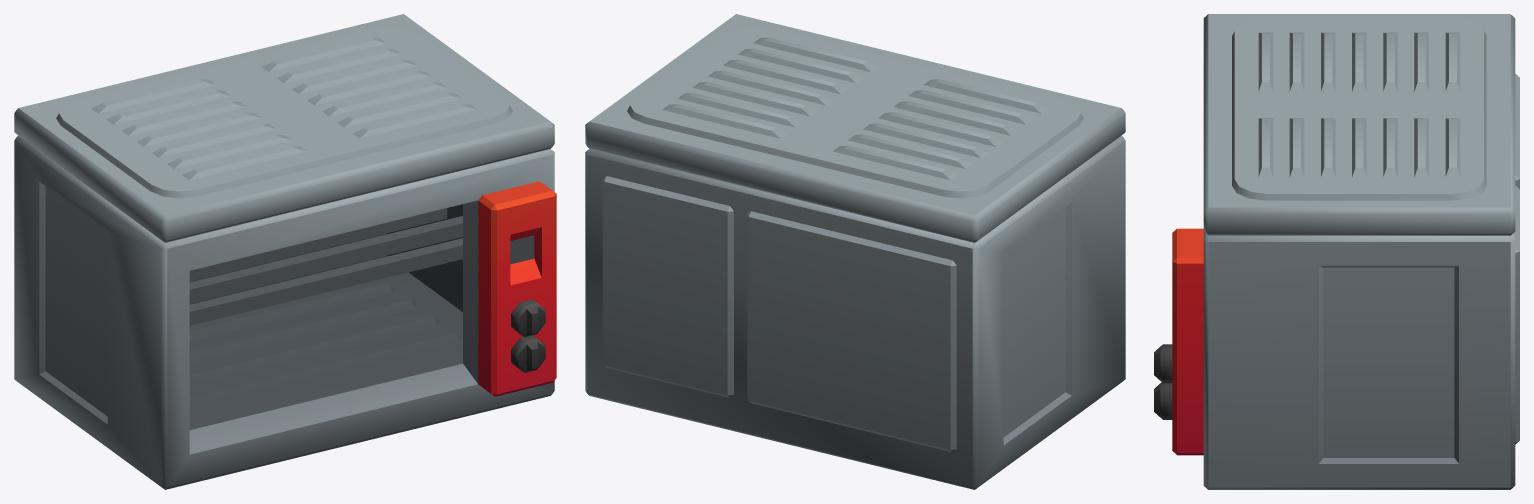
The model's file is pizza_oven.obj.
3 views of the same model, side by side, from view 1: azimuth 30°, elevation 25°; view 2: azimuth 150°, elevation 25°; view 3: azimuth 270°, elevation 25° (orthographic). The views are drawn at different scales.
Parts seen in each view (by area): view 1: pizza_oven_Cube.428; view 2: pizza_oven_Cube.428; view 3: pizza_oven_Cube.428.
Boxes of the visible parts, x1=… form: pizza_oven_Cube.428: x1=14, y1=14, x2=556, y2=489; pizza_oven_Cube.428: x1=585, y1=14, x2=1125, y2=489; pizza_oven_Cube.428: x1=1154, y1=14, x2=1519, y2=489.
Bounding box in the file's own units: 3 × 2.07 × 2.35.
Materials: 1 (1 with a texture image).
